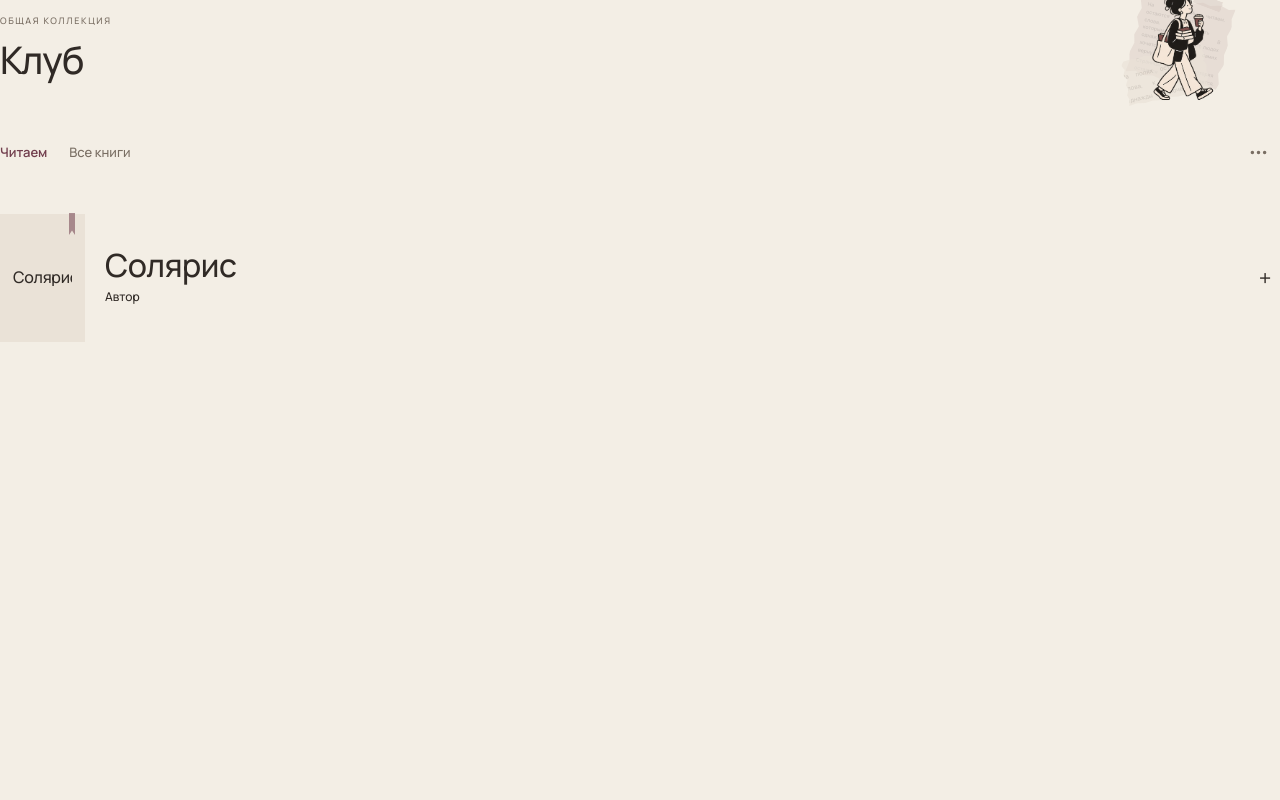
Test case: читатель в текущей книге открывает только свои публикации к этой книге
Click the button with aria-label "Открыть прогресс: Солярис". click: {"x": 640, "y": 278}
box: [0, 194, 1279, 362]
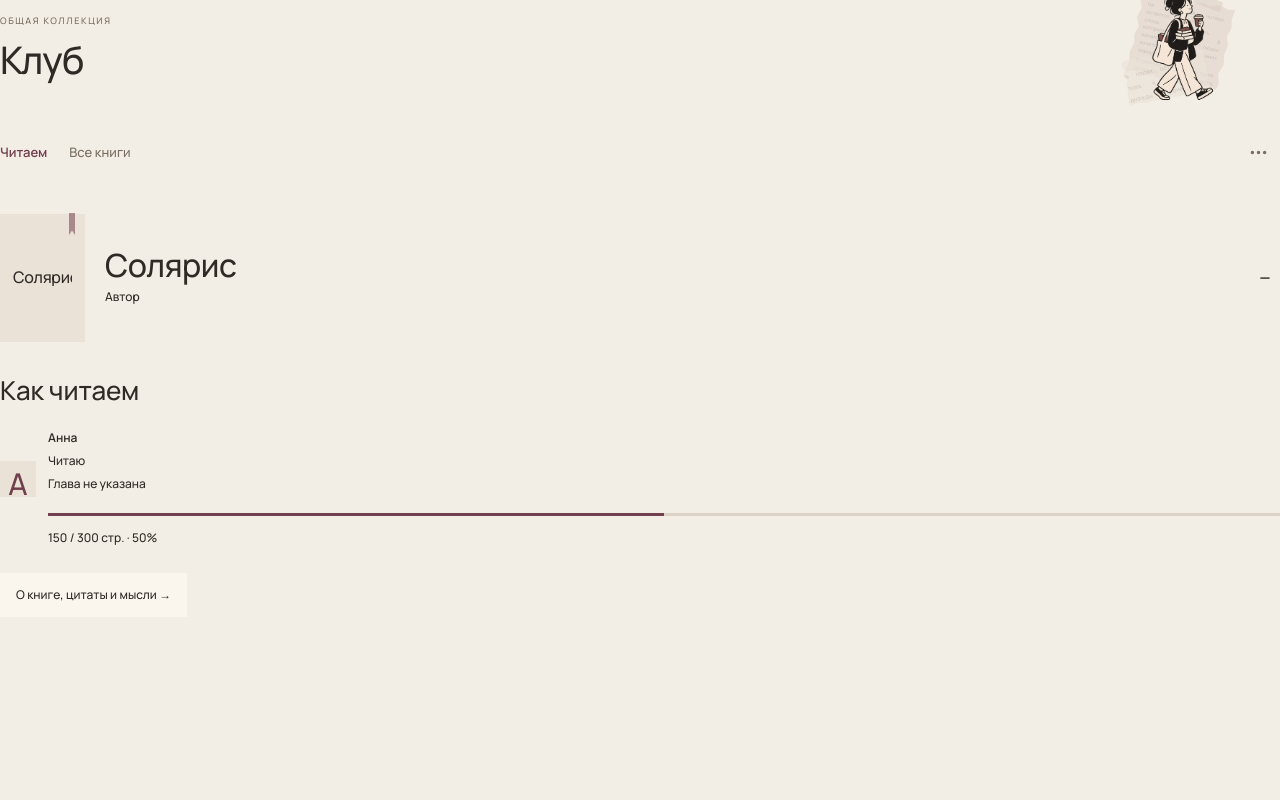
Now the text "150 / 300 стр. · 50%" is shown, box [48, 529, 157, 546]
Click the button with aria-label "Чтение Анна: Солярис". click: {"x": 640, "y": 488}
box: [0, 417, 1279, 559]
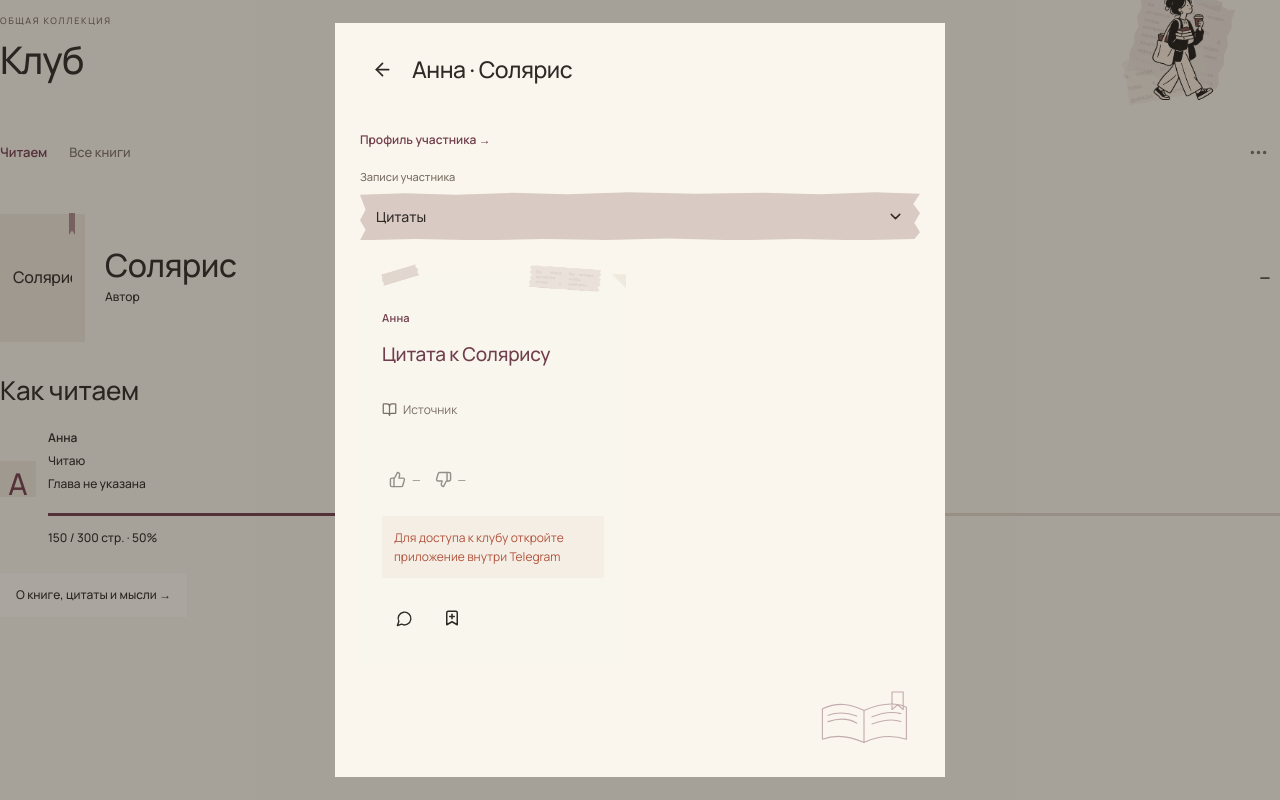
Now the dialog is shown, box [335, 23, 945, 777]
Now the text "Цитата к Солярису" is shown, box [382, 341, 550, 367]
